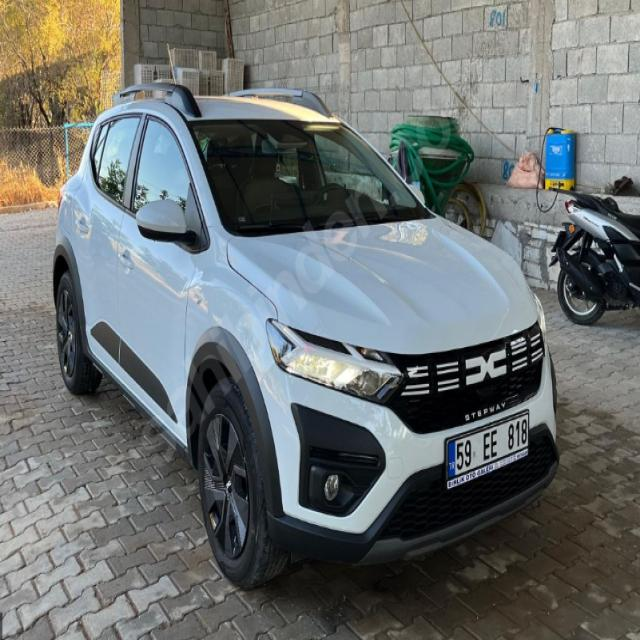dacia: (464, 348, 510, 386)
